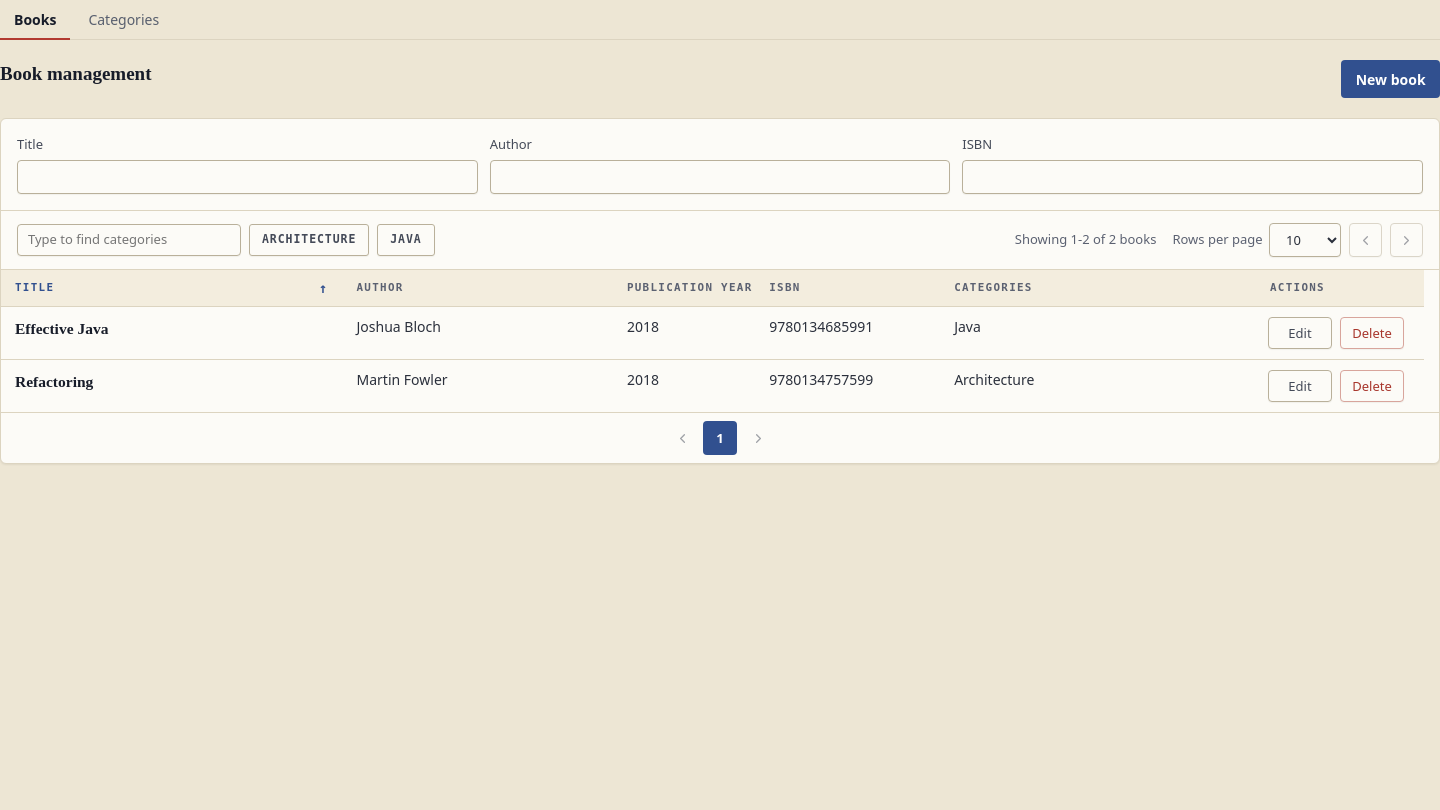
Test: AdminCatalogPage › keeps stale-version update failures open with a reload path
Click the button with aria-label "Edit Effective Java" at point(1300, 333), box 1268,317 -> 1332,349
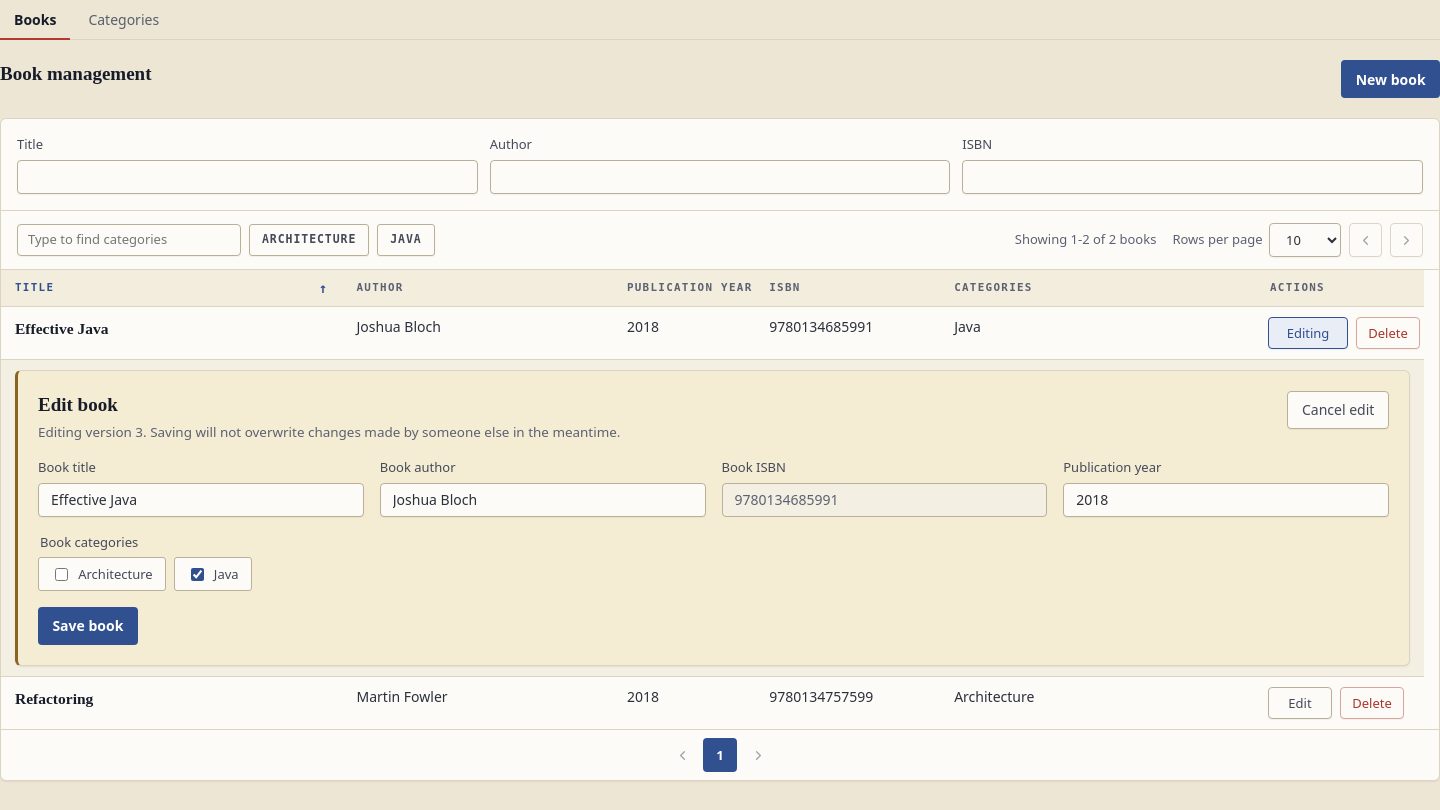
Replace the text in the field labelled "Book title" with "Effective Java Reloaded" at point(201, 500), box 38,483 -> 364,517
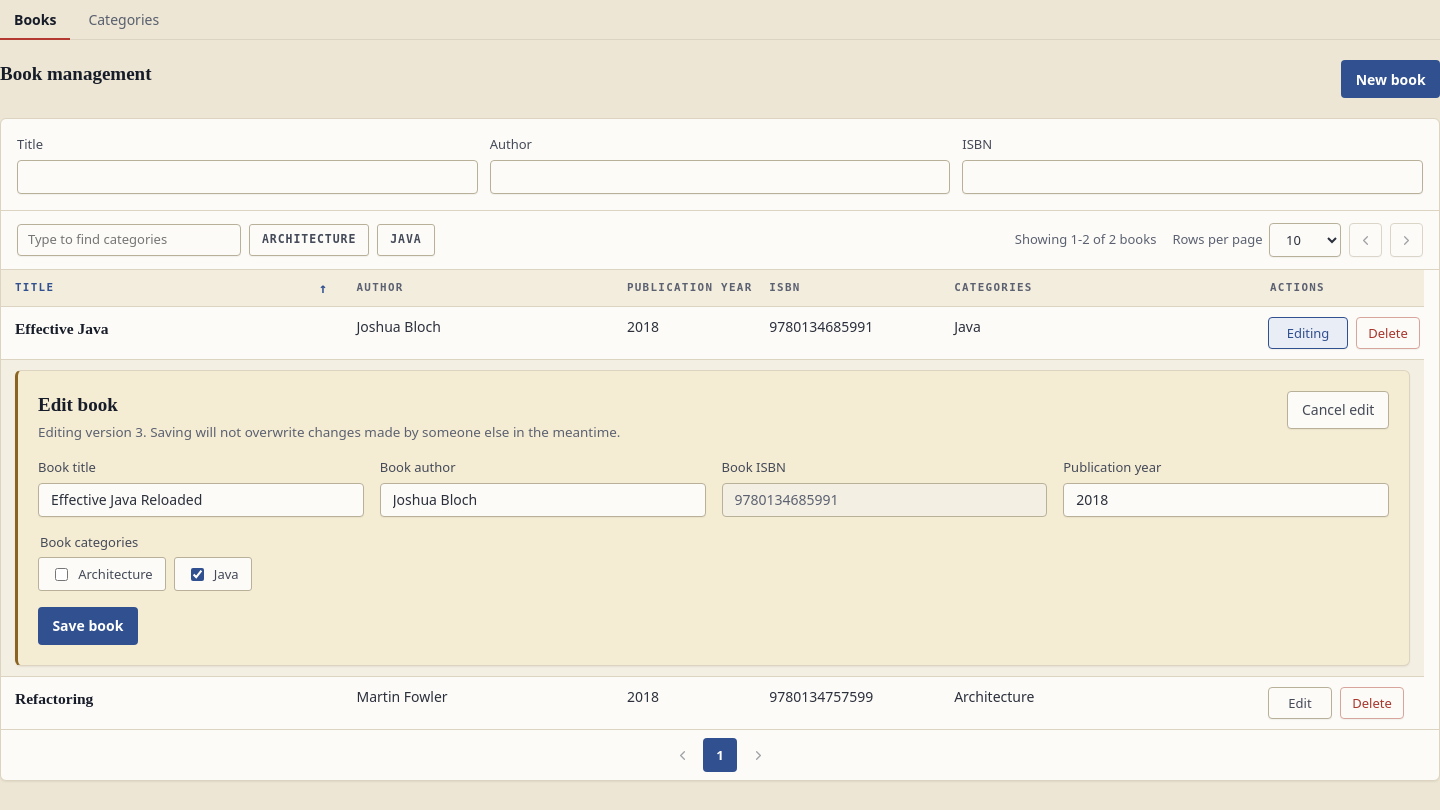
Click the button "Save book" at point(88, 626), box 38,607 -> 138,645
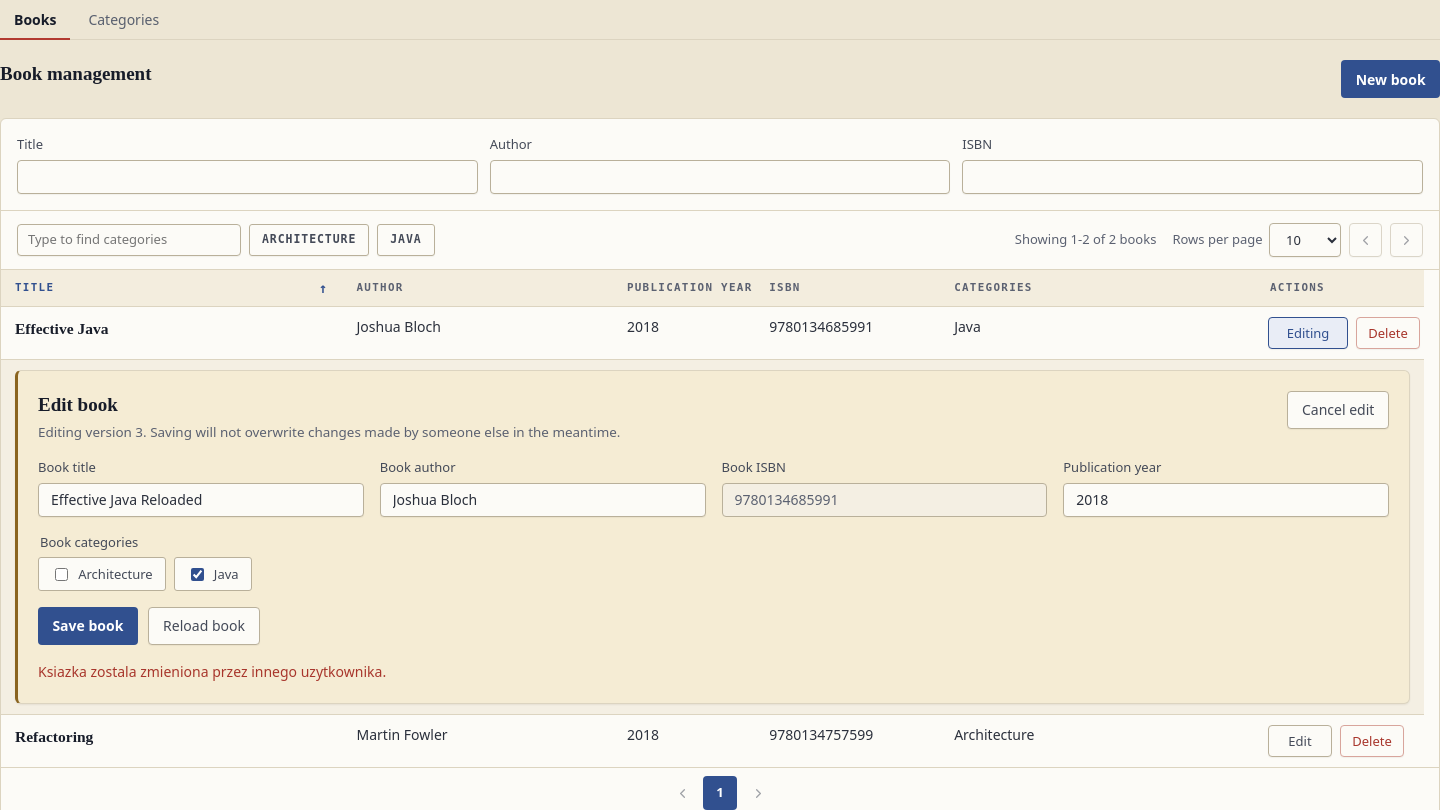
expect the message reads "Ksiazka zostala zmieniona przez innego uzytkownika.": met, box 38,662 -> 386,681
expect the button "Reload book" is shown: met, box 148,607 -> 260,645
